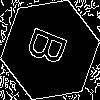B: (25, 25, 77, 72)
